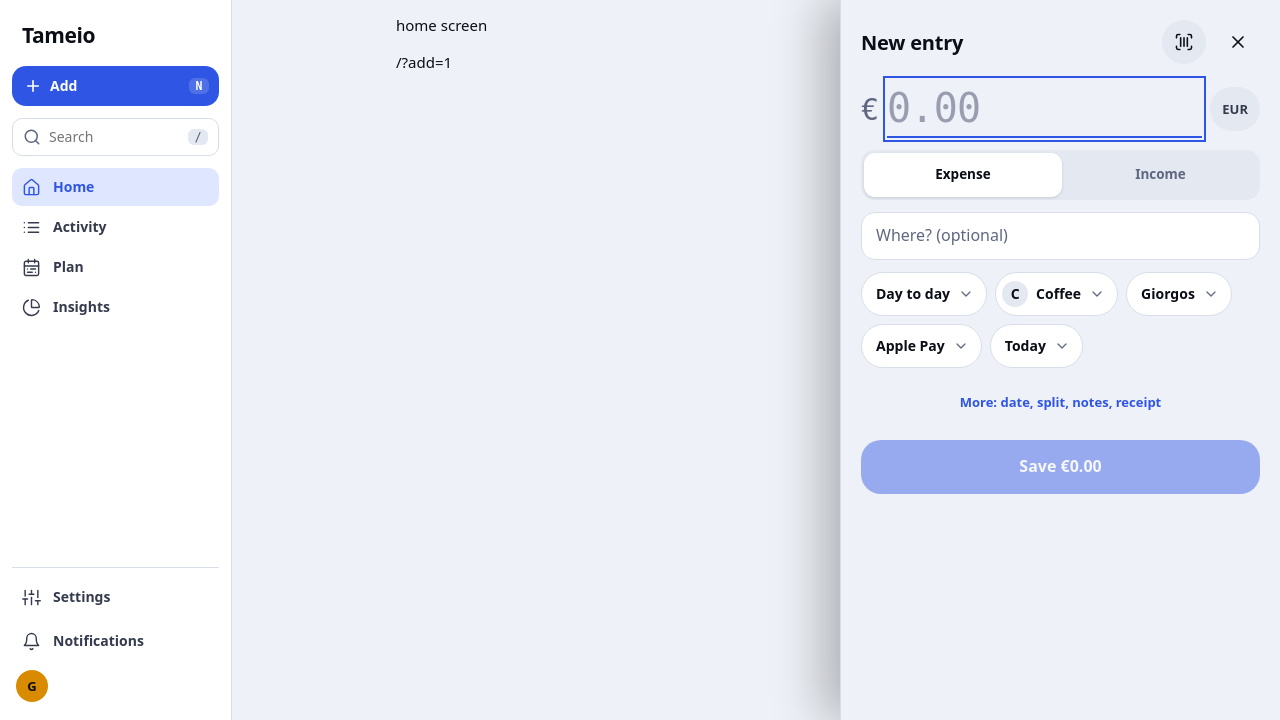
Scenario: the pantry prompt shows after a new expense saves through the panel
Type "4" into the field named "Amount" at (1045, 109), box [887,80,1202,138]
Then press Enter
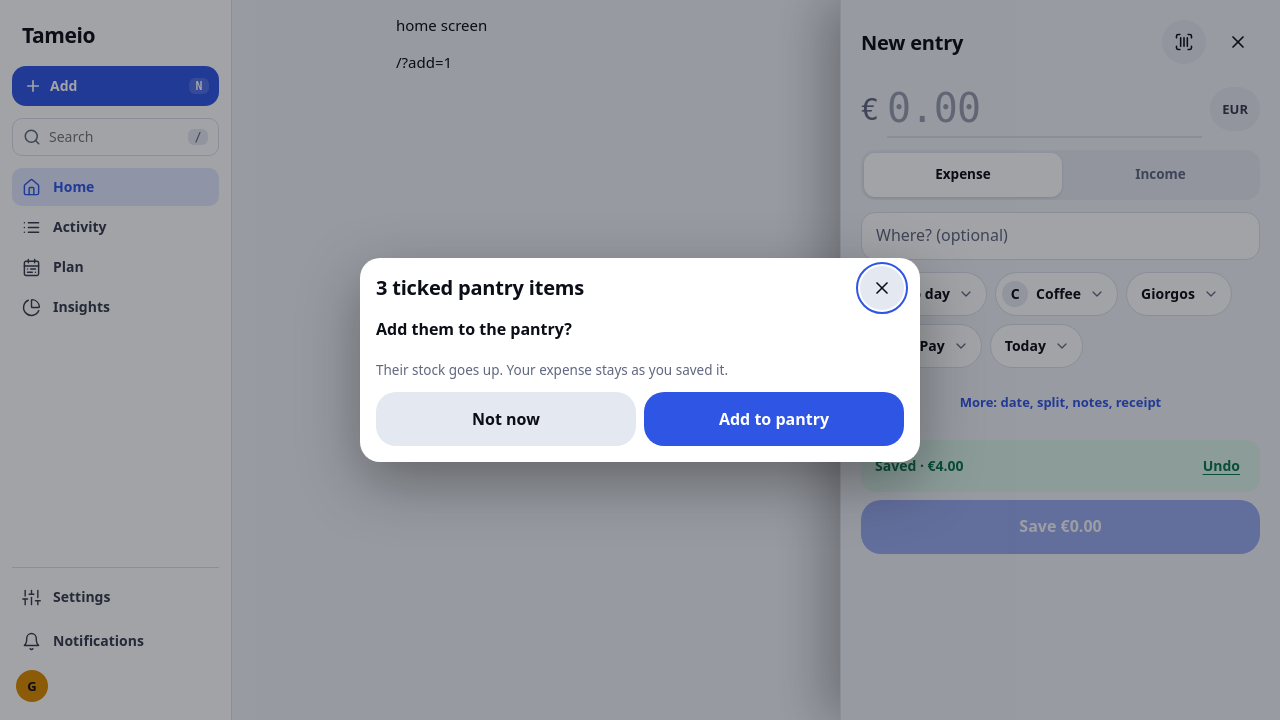
Check: the dialog "3 ticked pantry items" is shown, box [360,258,920,462]
